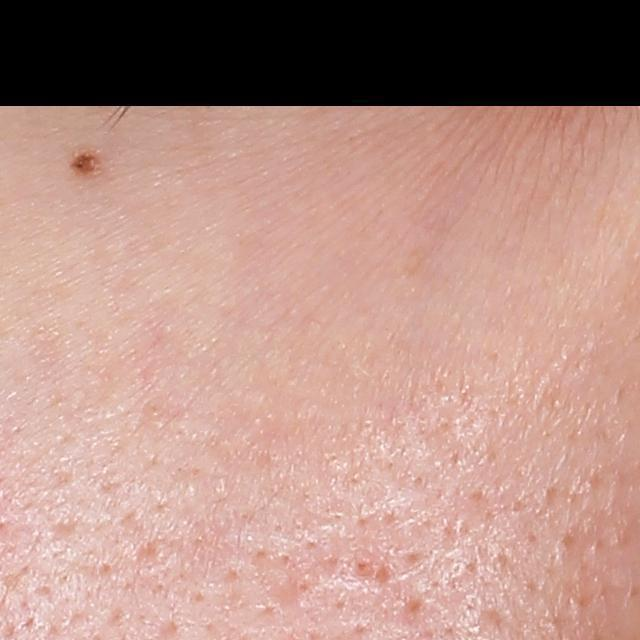nevus: (66, 145, 108, 179)
